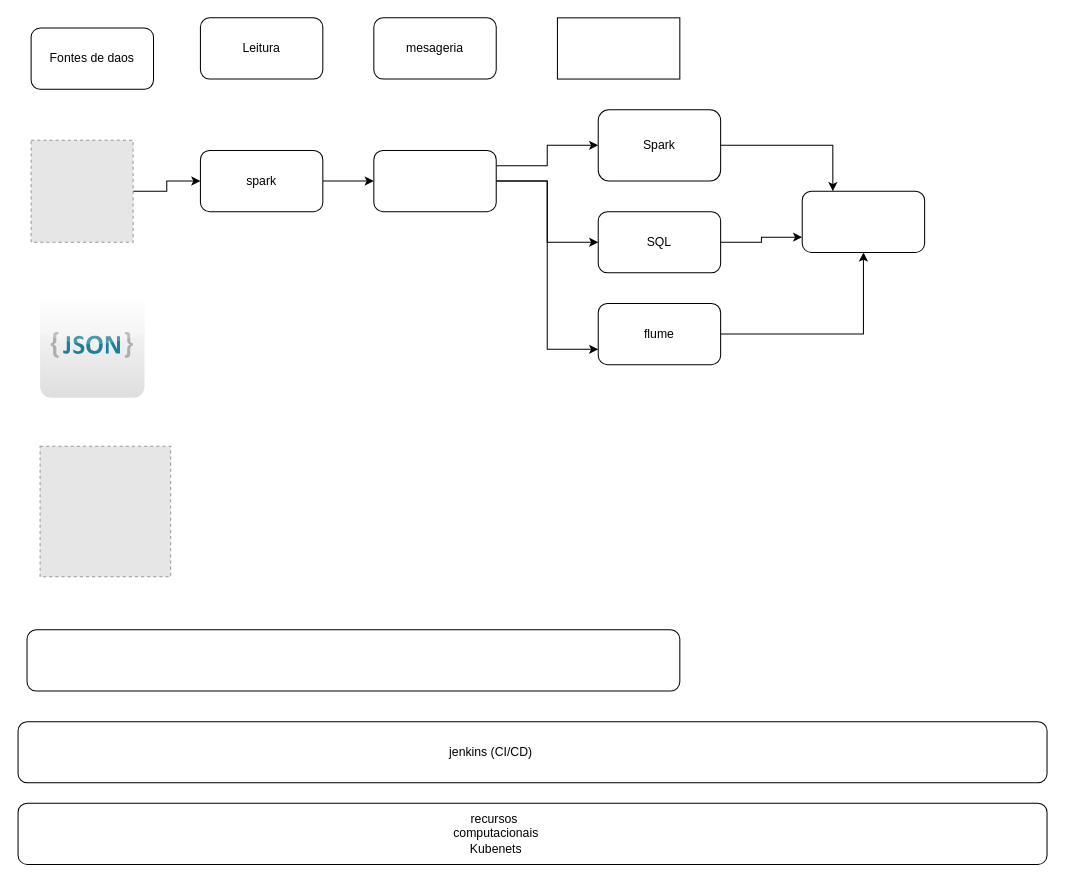
Image size: 1065x882. Some labels were removed from this diagram. Grey dashed boxes stand in for pictures. The centre of each missing label's shape, as x and y in pixels:
Airflow: the point at 353,660
Kafka: the point at 434,180
PBI: the point at 863,221
persistência: the point at 618,48
